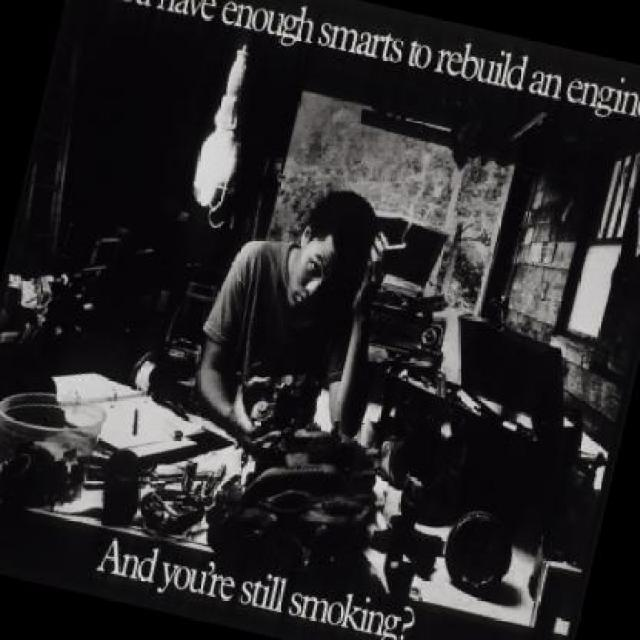cigarette: (382, 238, 408, 256)
